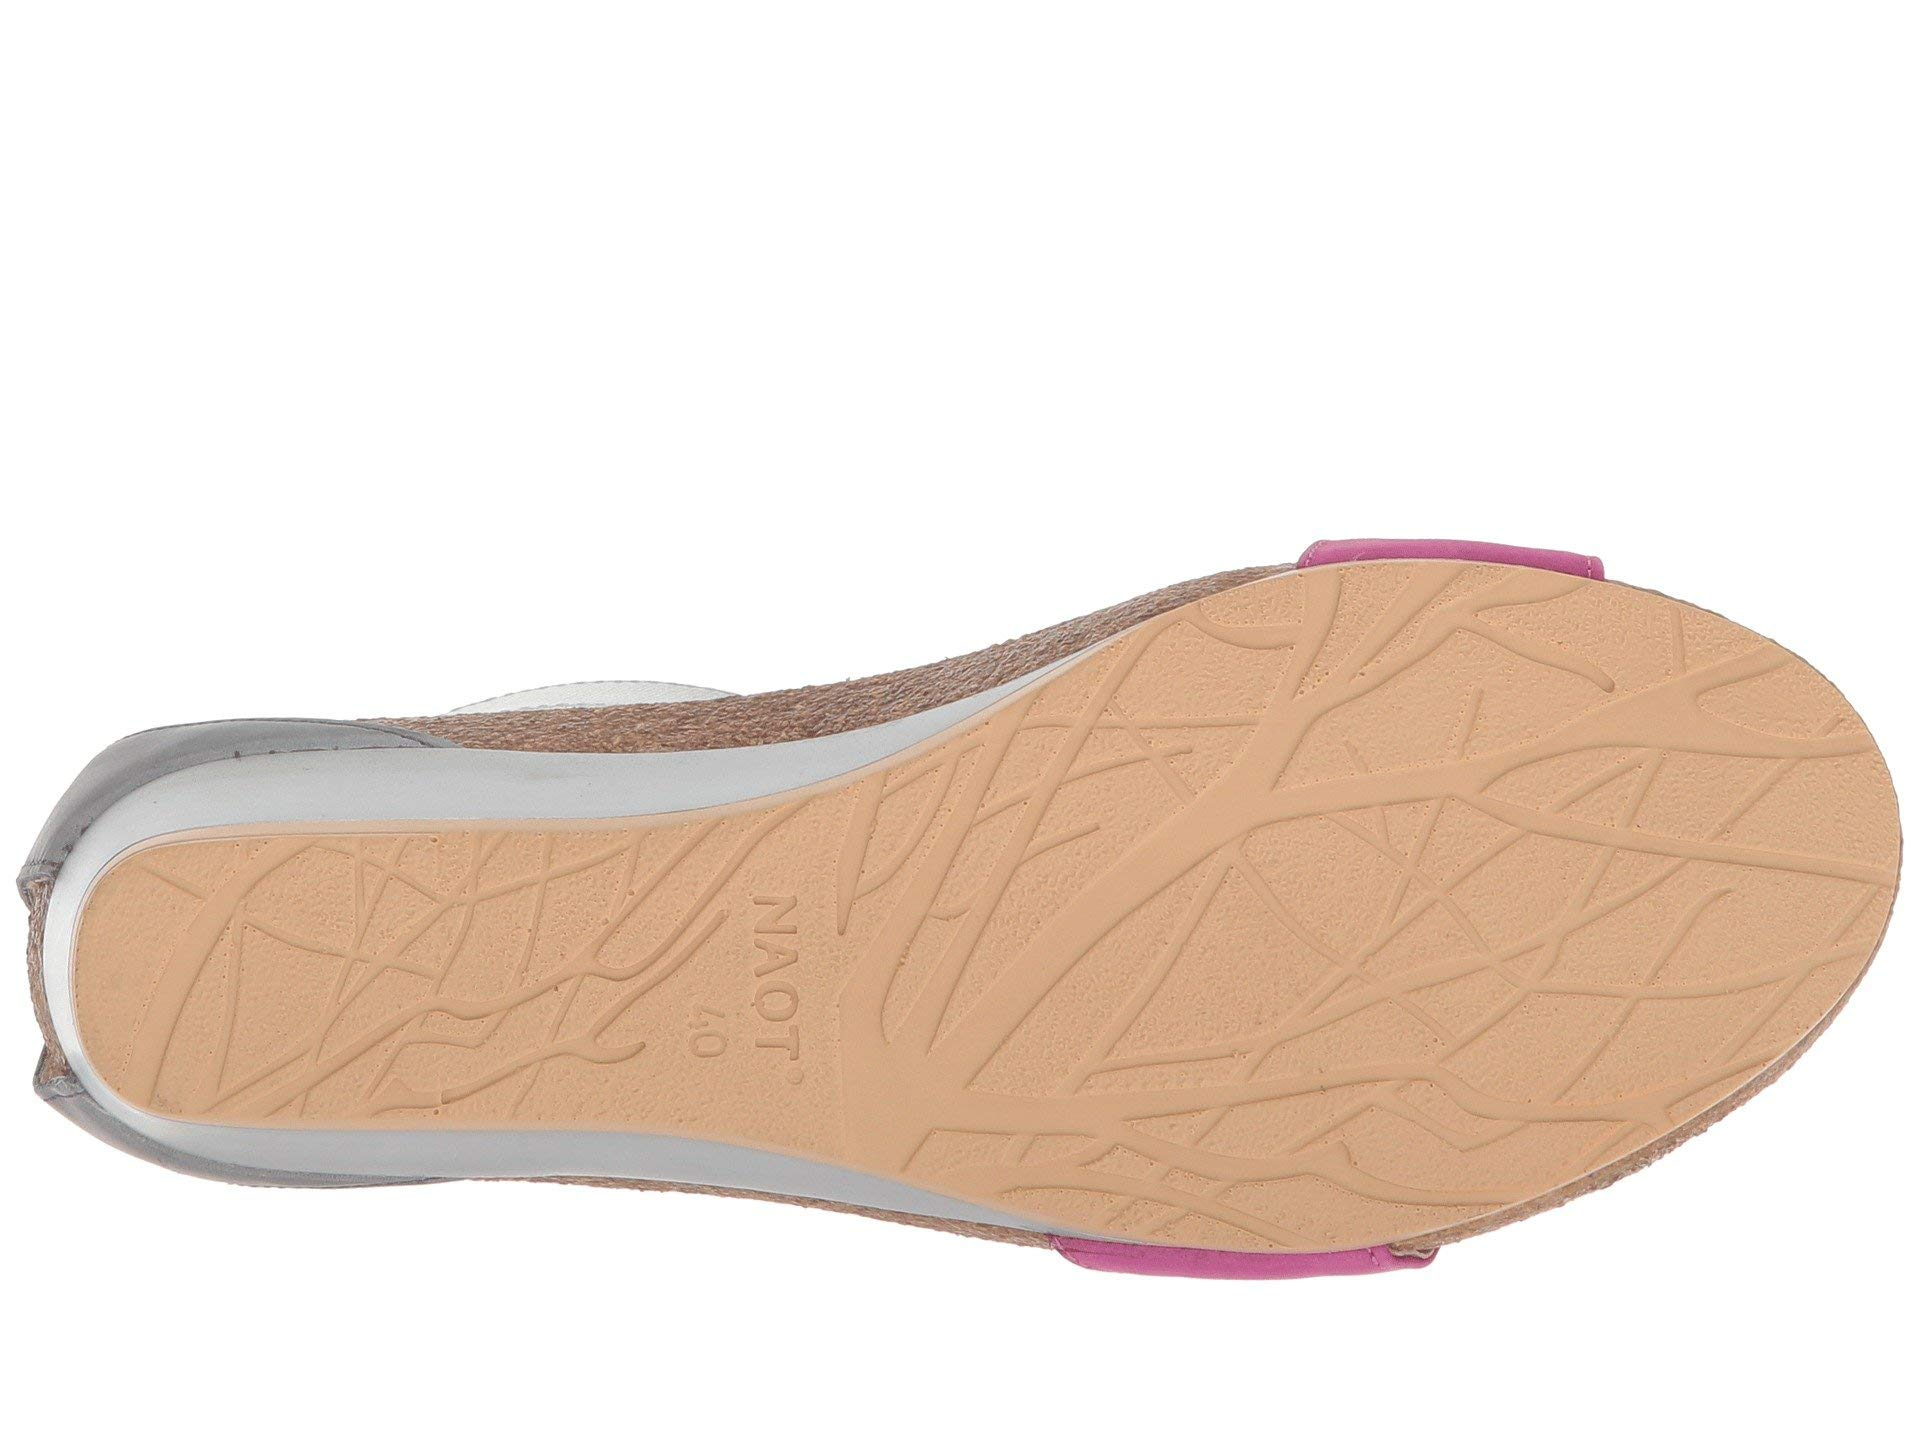exclude: (73, 672, 848, 800)
line: (1073, 647, 1689, 1172), (658, 868, 833, 1122)
quad: (1073, 647, 1689, 1172), (206, 849, 514, 1119)
text: (658, 868, 833, 1122)
triangle: (1073, 647, 1689, 1172), (206, 849, 514, 1119)
